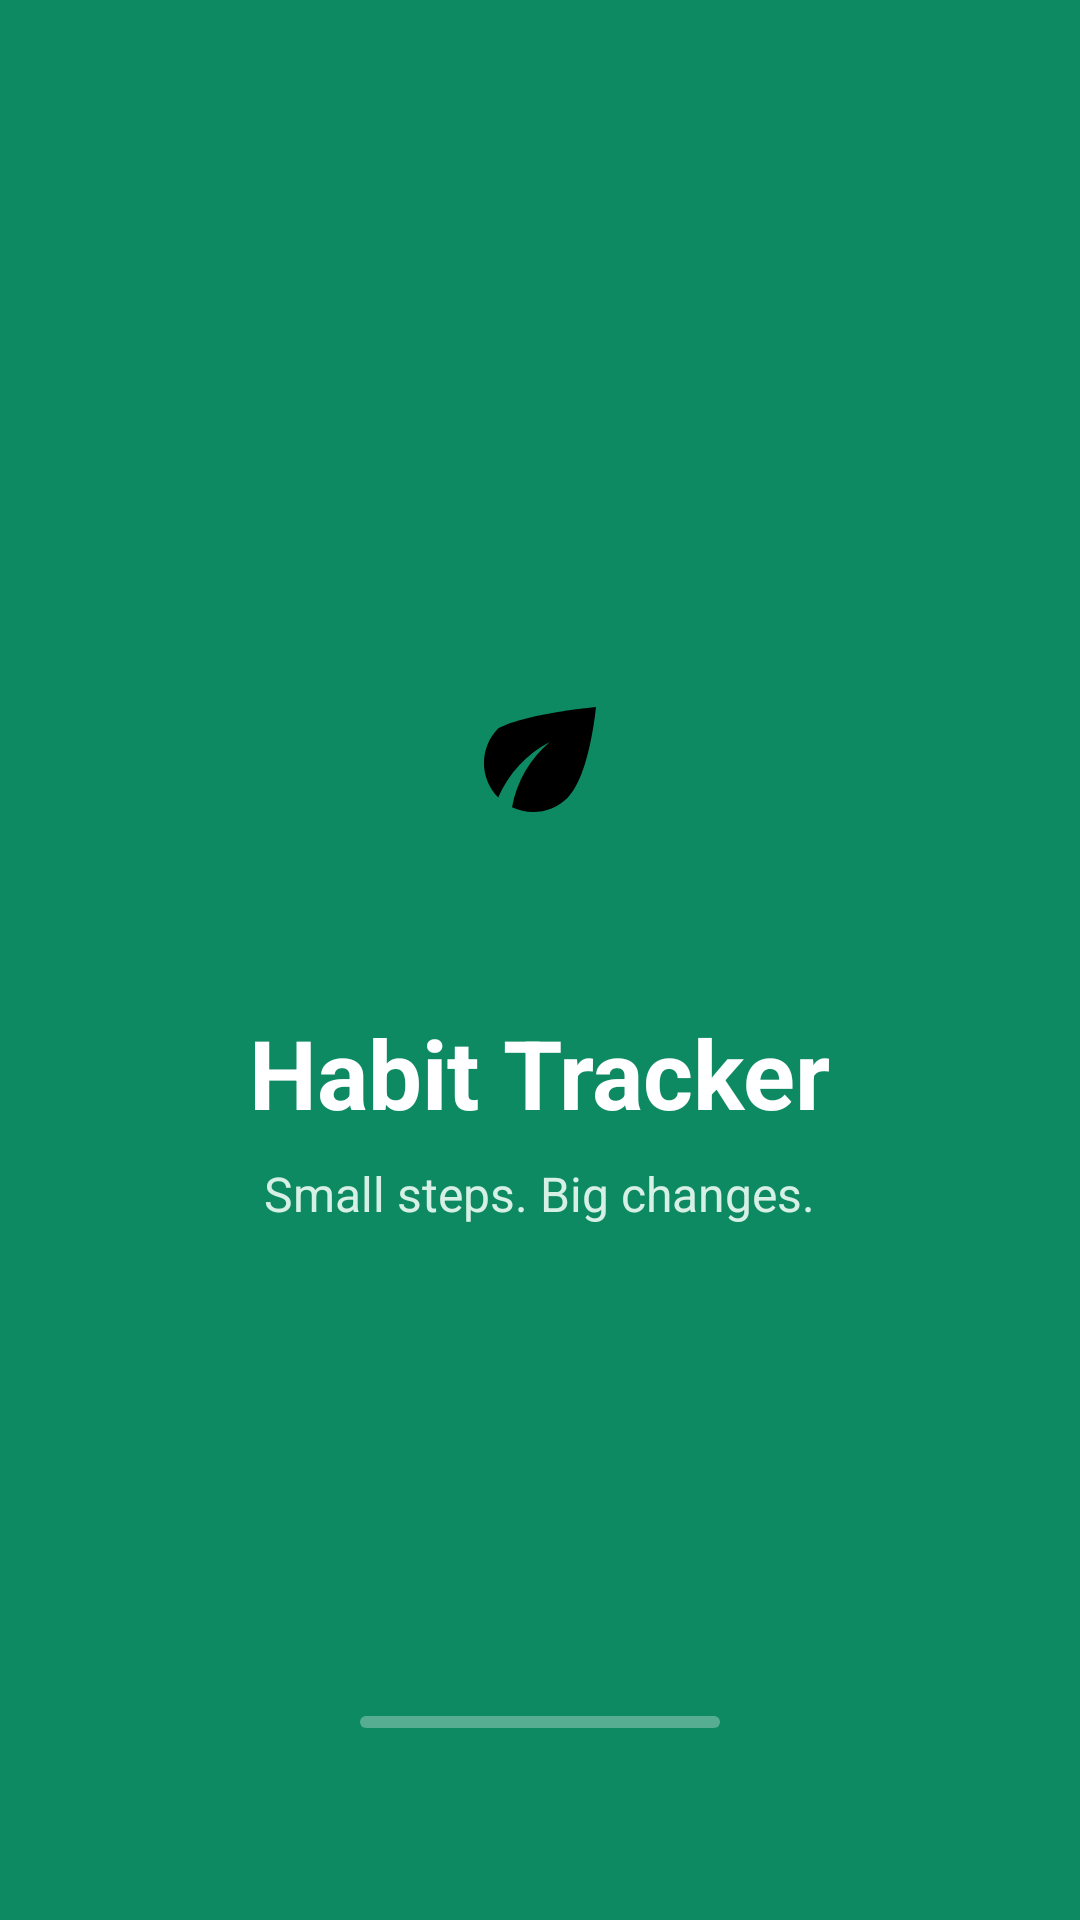

Screen size 1080x1920. Icon name, then its box in pixels as Rect(x1, y1, x2, y2):
leaf: Rect(484, 707, 596, 812)
